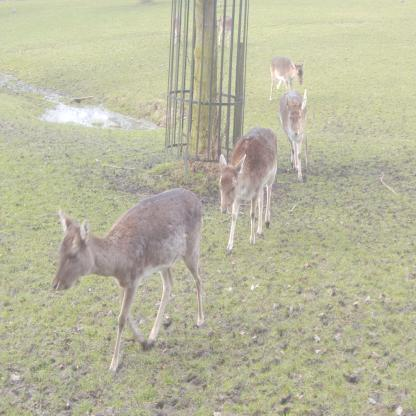Deer: (49, 184, 207, 377), (218, 122, 280, 258), (277, 89, 307, 183), (269, 52, 304, 106)
